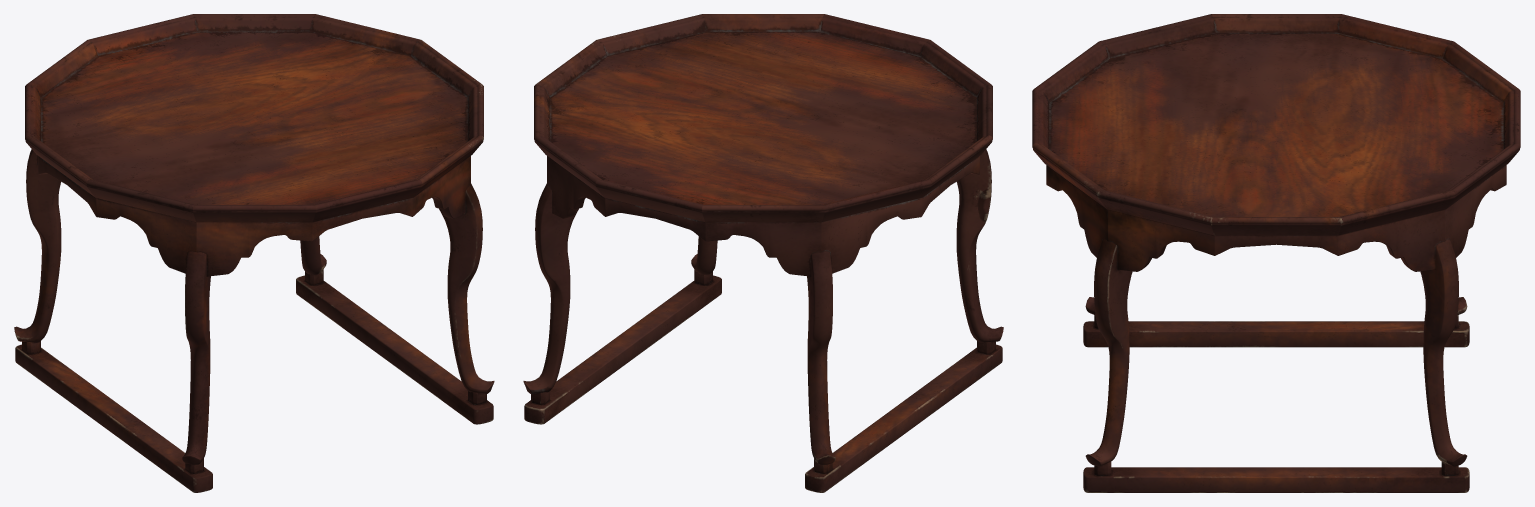
The model's file is SM_TableTigersLegs.fbx.
3 renders of one model, left to right at view 1: azimuth 30°, elevation 25°; view 2: azimuth 150°, elevation 25°; view 3: azimuth 270°, elevation 25°, orthographic. The views are drawn at different scales.
Visible parts, largest first — view 1: SM_TableTigersLegs; view 2: SM_TableTigersLegs; view 3: SM_TableTigersLegs.
Boxes of the visible parts, box(x1,y1,x2,y2) form: SM_TableTigersLegs: box(14, 14, 494, 492); SM_TableTigersLegs: box(523, 14, 1003, 492); SM_TableTigersLegs: box(1032, 14, 1520, 492).
Size of the model in its own units: 59.34 by 40.16 by 59.34.
Materials: 1 (1 with a texture image).
